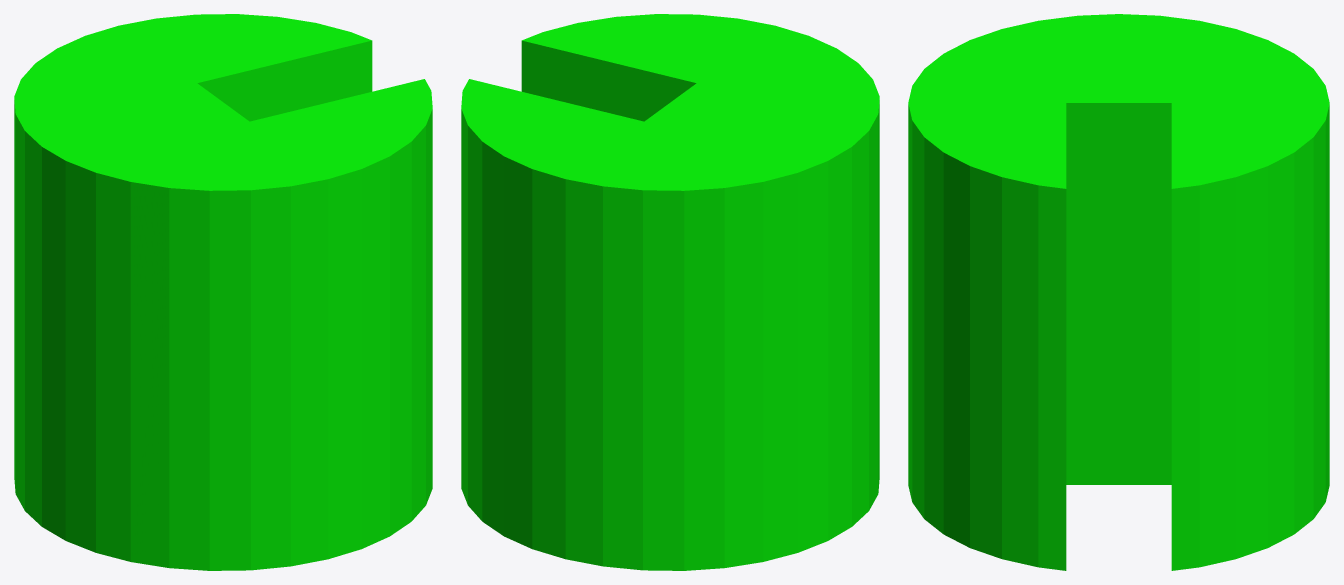
Rendered from slot_disc.001.dae.
3 views of the same model, side by side, from view 1: azimuth 30°, elevation 25°; view 2: azimuth 150°, elevation 25°; view 3: azimuth 270°, elevation 25° (orthographic).
Parts seen in each view (by area): view 1: collision_mesh1; view 2: collision_mesh1; view 3: collision_mesh1.
Boxes of the visible parts, left/top/right/bottom form: collision_mesh1: left=14, top=14, right=432, bottom=570; collision_mesh1: left=461, top=14, right=879, bottom=570; collision_mesh1: left=908, top=14, right=1329, bottom=570.
Size of the model in its own units: 1.96 by 2 by 2.
